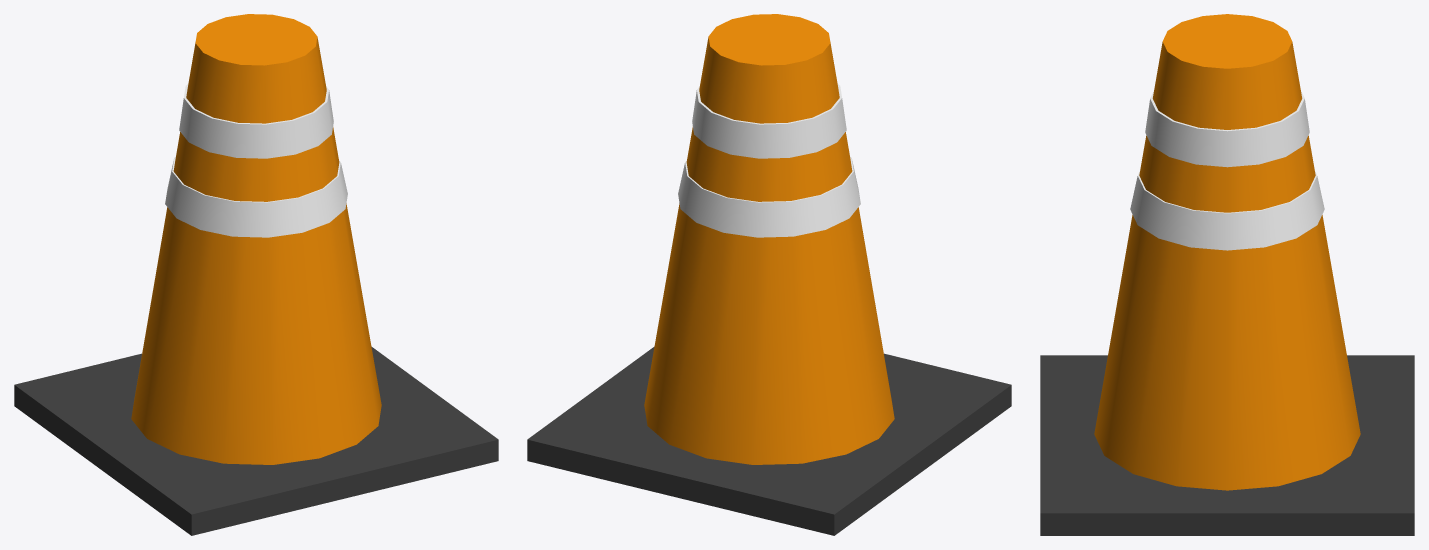
The model's file is traffic_cone.gltf.
3 renders of one model, left to right at view 1: azimuth 30°, elevation 25°; view 2: azimuth 150°, elevation 25°; view 3: azimuth 270°, elevation 25°, orthographic. The views are drawn at different scales.
Visible parts, largest first — view 1: Cylinder, Box, Cylinder_1, Cylinder_2; view 2: Cylinder, Box, Cylinder_1, Cylinder_2; view 3: Cylinder, Box, Cylinder_1, Cylinder_2.
Part boxes in pixels (x1,y1,x2,y2): Cylinder: (131,14,381,464); Box: (14,346,498,535); Cylinder_1: (165,156,347,237); Cylinder_2: (179,84,333,158); Cylinder: (644,14,894,464); Box: (527,346,1011,535); Cylinder_1: (678,156,860,237); Cylinder_2: (692,84,846,158); Cylinder: (1094,14,1360,490); Box: (1040,355,1414,535); Cylinder_1: (1130,171,1324,250); Cylinder_2: (1145,91,1309,167).
Size of the model in its own units: 1.5 by 1.84 by 1.5.
